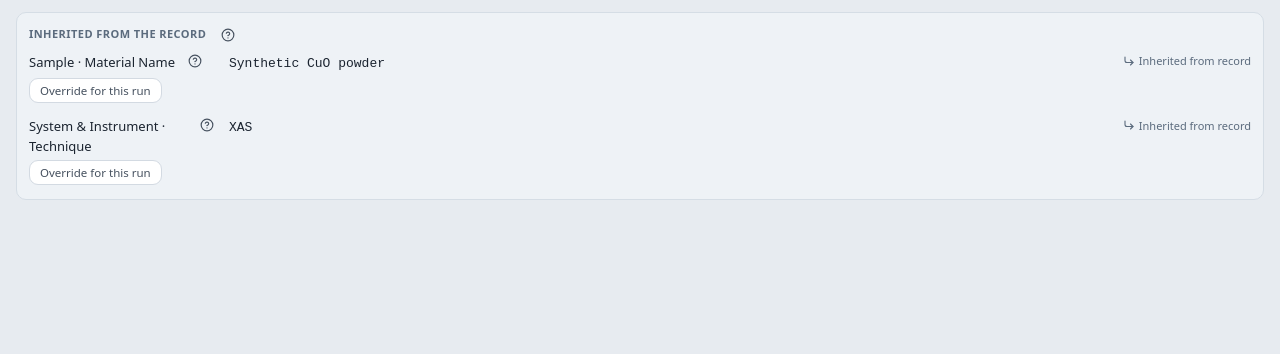
Test case: an override at a field the schema closes with a list › with no readable schema it falls back to the text box rather than inventing a list
The width and height of the screenshot is (1280, 354).
Click the button "Override for this run" below "System & Instrument · Technique": (95,173) 29,160 -> 162,185
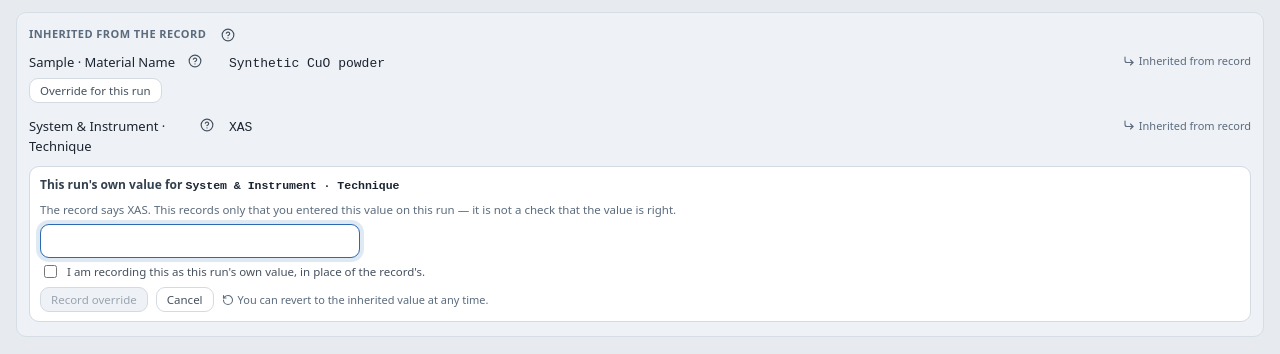
Expected: the field is shown, 40,224 -> 360,258
